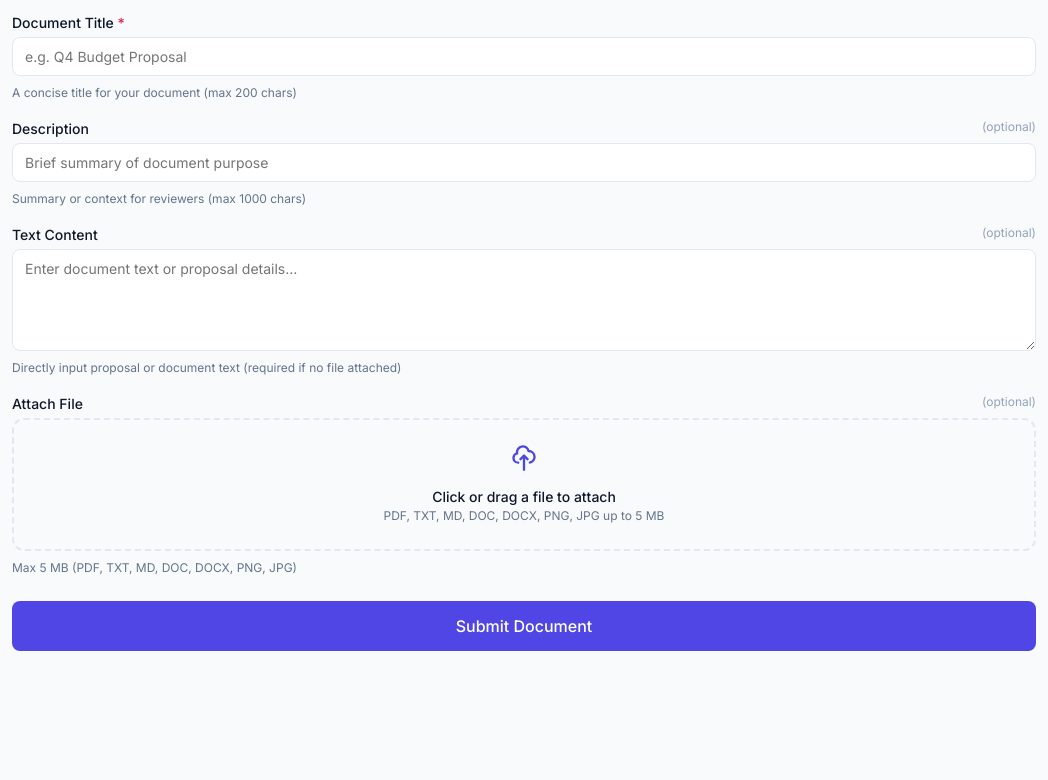
Test: Frontend: SubmissionForm Component › validates title is required before submission
Click the button "Submit Document".
click(524, 626)  # box [12,601,1036,651]
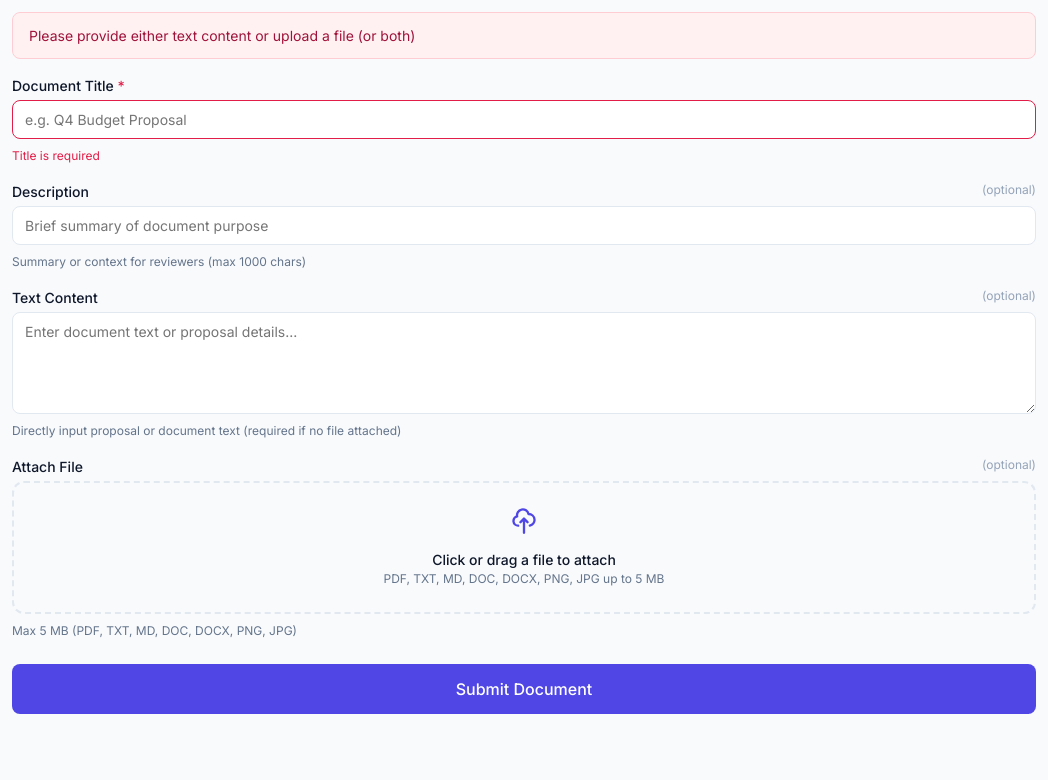
Expected: the text "Title is required" is shown, [12,148,100,163]
